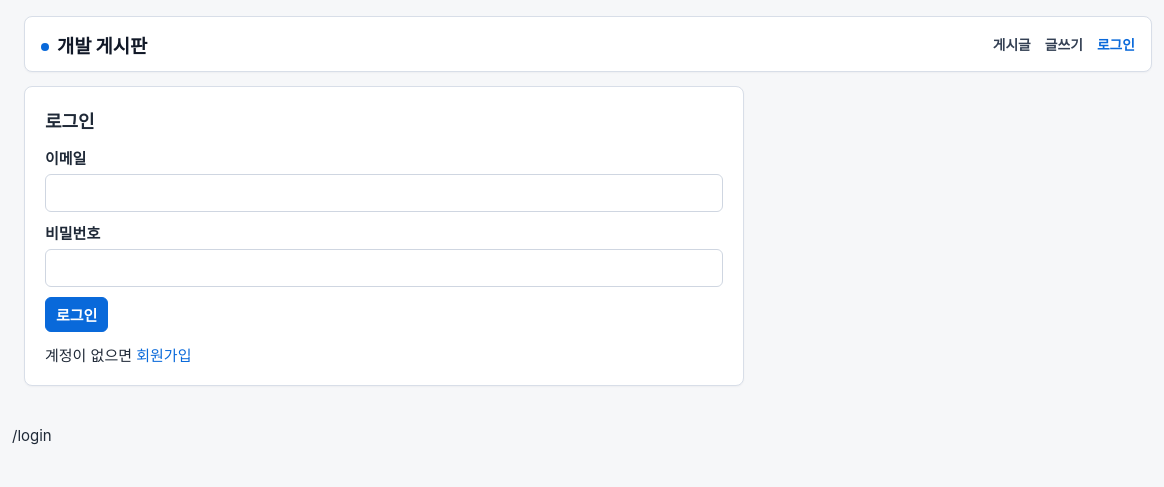
Scenario: 인증 폼 › 로그인 이메일 형식 오류를 보여준다
Type "wrong-email" into the field labelled "이메일". click: (384, 193)
box: x1=45 y1=174 x2=723 y2=212
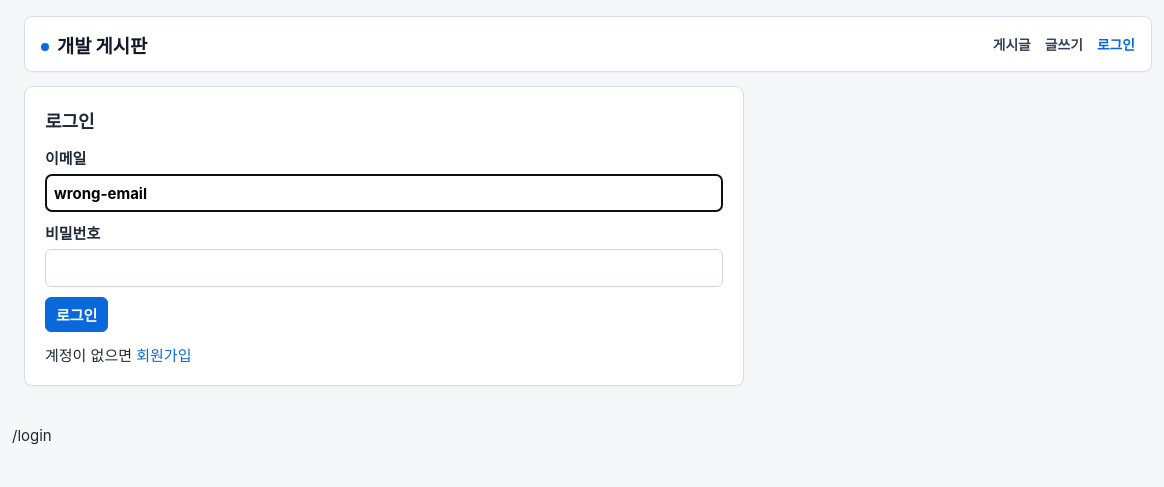
Type "Password1!" into the password field labelled "비밀번호". click: (384, 268)
box: x1=45 y1=249 x2=723 y2=287
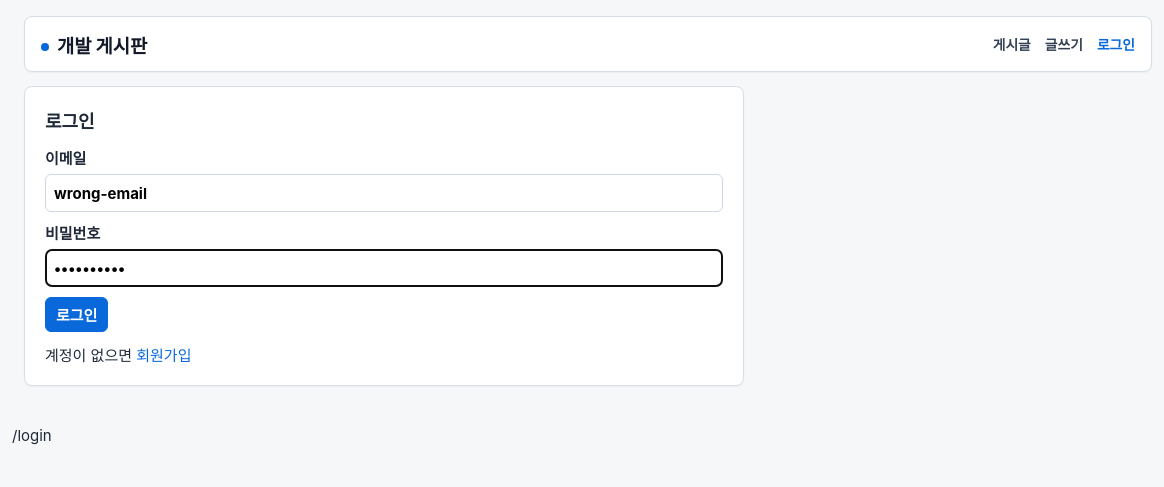
Click the button "로그인". click: (77, 314)
box: x1=45 y1=297 x2=108 y2=332
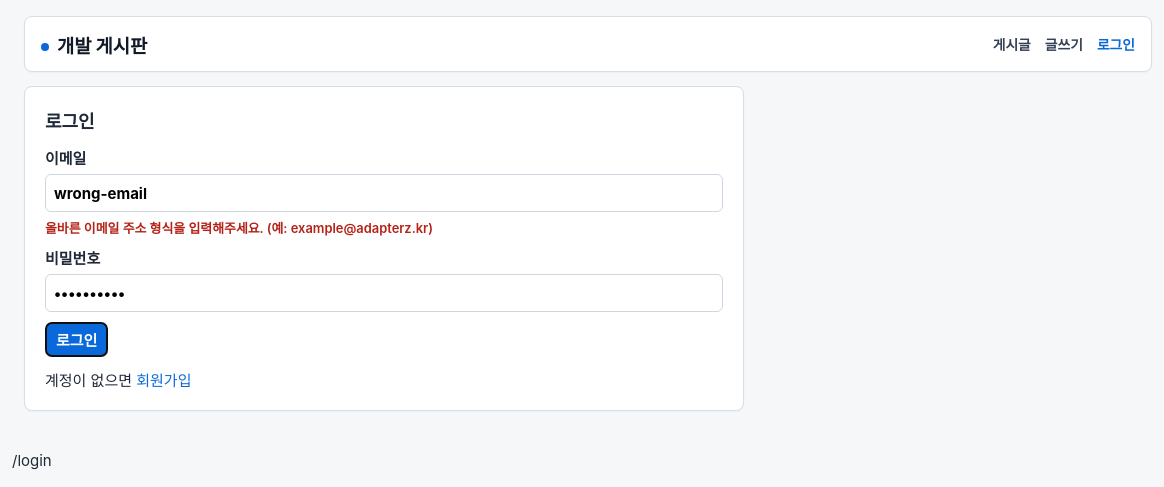
expect the text "올바른 이메일 주소 형식을 입력해주세요. (예: example@adapterz.kr)" is shown: met, box x1=45 y1=221 x2=433 y2=236
